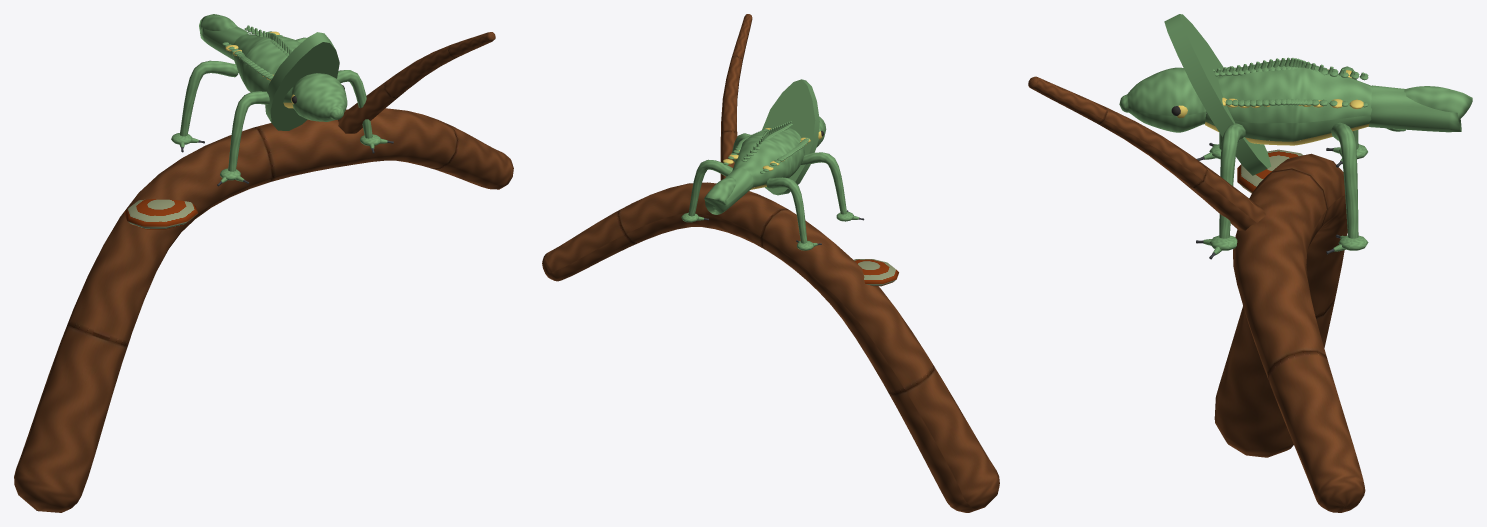
Rendered from birds-and-reptiles-hd-veiled-chameleon-on-branch-7dc7177a__28111.glb.
3 renders of one model, left to right at view 1: azimuth 30°, elevation 25°; view 2: azimuth 150°, elevation 25°; view 3: azimuth 270°, elevation 25°, orthographic. The views are drawn at different scales.
Parts seen in each view (by area): view 1: veiled-chameleon-on-branch; view 2: veiled-chameleon-on-branch; view 3: veiled-chameleon-on-branch.
Part boxes in pixels (<box>): veiled-chameleon-on-branch: <box>14,14,513,512</box>; veiled-chameleon-on-branch: <box>542,14,999,512</box>; veiled-chameleon-on-branch: <box>1028,14,1472,512</box>.
Size of the model in its own units: 0.9187 by 0.7666 by 0.5098.
6 materials, 4 textured.
